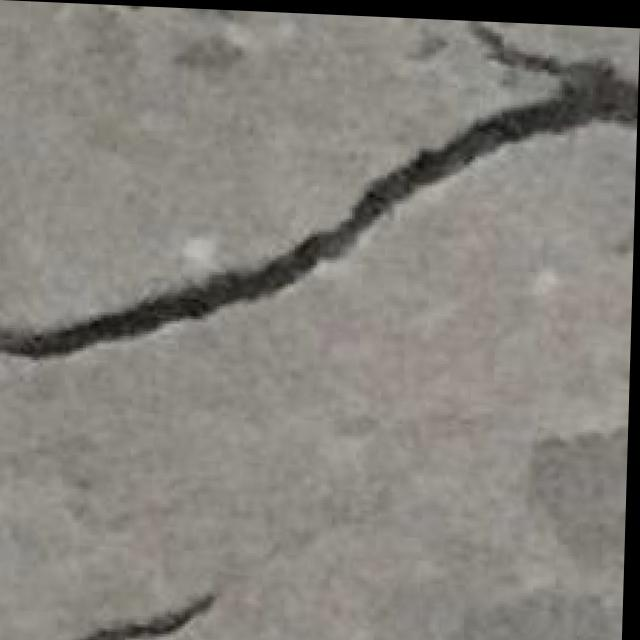Crack: (0, 0, 640, 386), (84, 575, 221, 640)
